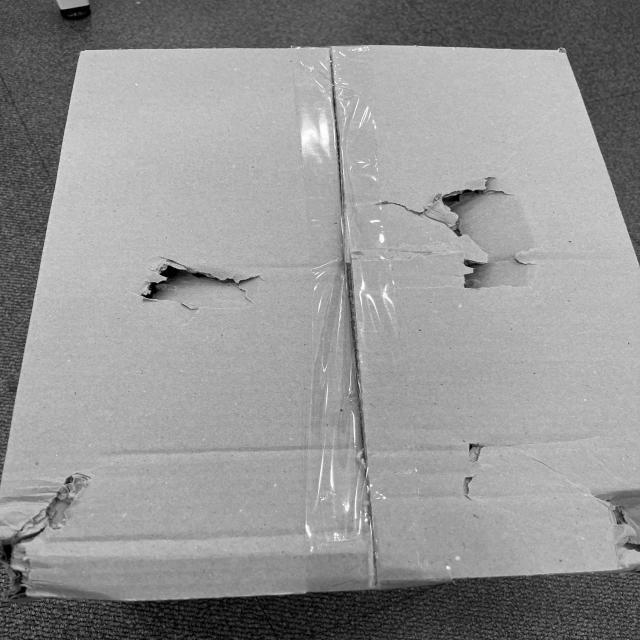hole: (432, 180, 542, 300), (1, 470, 93, 600), (142, 251, 270, 313)
